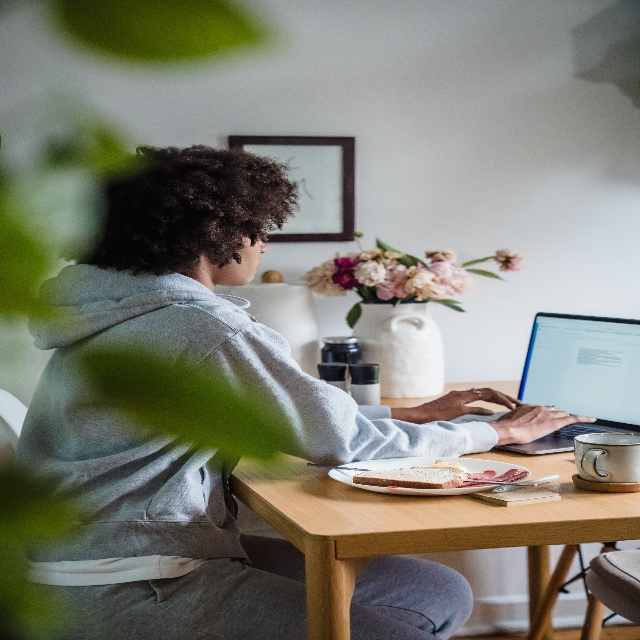Sin_guantes: (496, 403, 596, 445), (414, 387, 522, 425)
